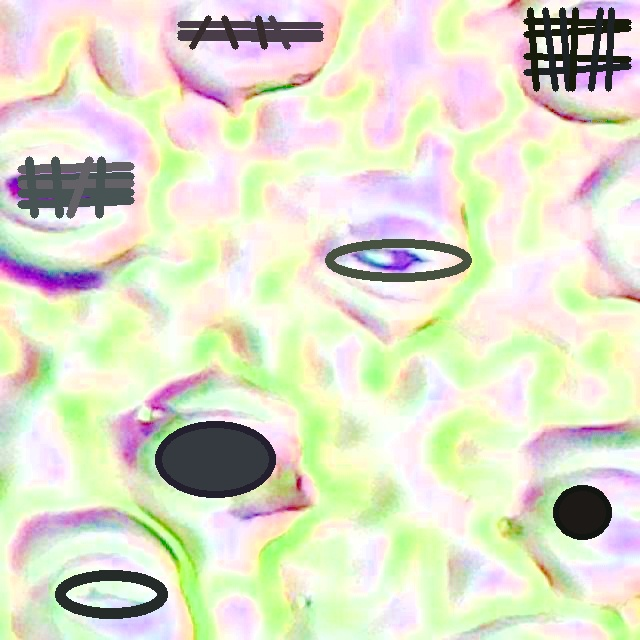close: (524, 8, 631, 91), (553, 485, 611, 539)
open: (154, 422, 275, 496), (17, 156, 134, 218), (324, 237, 472, 282), (54, 570, 168, 619), (178, 15, 323, 48)
